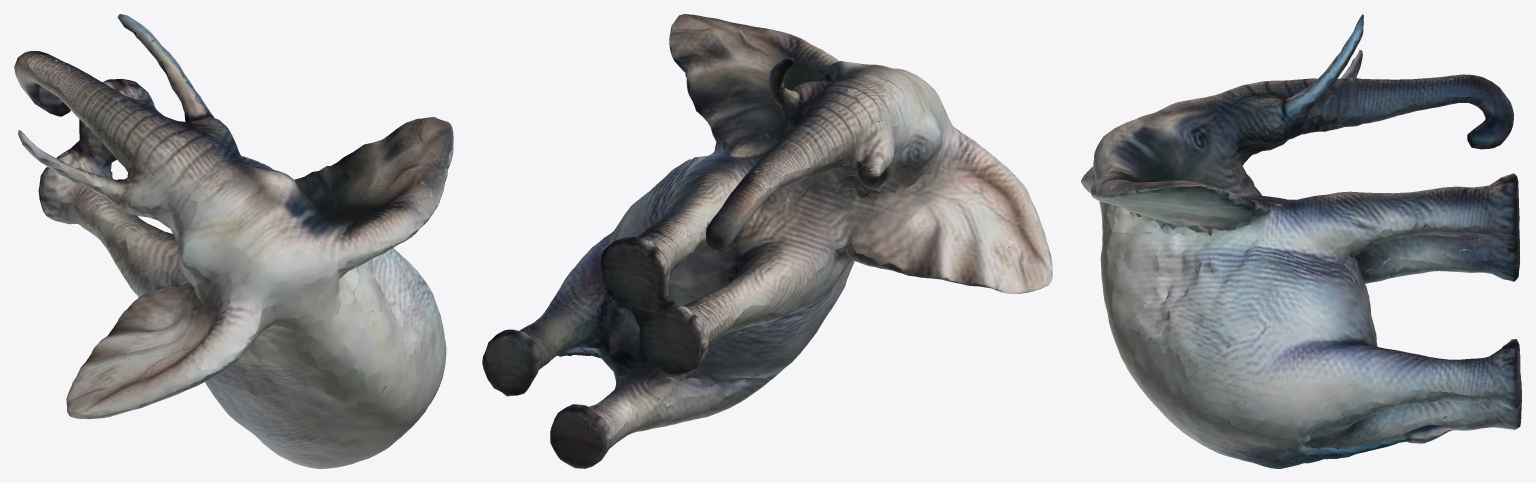
Rendered from elephant.glb.
The picture shows the model from 3 angles, left to right: view 1: azimuth 30°, elevation 25°; view 2: azimuth 150°, elevation 25°; view 3: azimuth 270°, elevation 25°; orthographic projection. The views are drawn at different scales.
Parts seen in each view (by area): view 1: world.304; view 2: world.304; view 3: world.304.
Part boxes in pixels (x1=…): world.304: x1=14, y1=14, x2=453, y2=468; world.304: x1=482, y1=14, x2=1052, y2=468; world.304: x1=1081, y1=14, x2=1521, y2=468.
Bounding box in the file's own units: 0.9785 × 0.9324 × 0.9722.
1 material, 1 textured.
